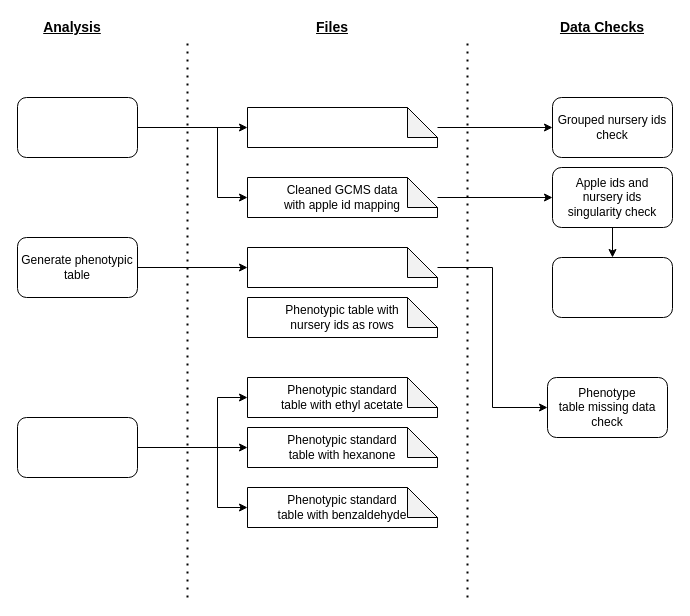
The diagram is 690 pixels wide and 616 high, and some of its shapes have lost their labels. Each missing label, with the box of its shape:
Cleaned GCMS data: (246, 106, 438, 148)
Initial data cleanup: (16, 96, 138, 158)
Phenotypic table with apple id as rows: (246, 246, 438, 288)
Replicate correlation check: (552, 256, 672, 318)
Standardize phenotypic table: (16, 416, 138, 478)
